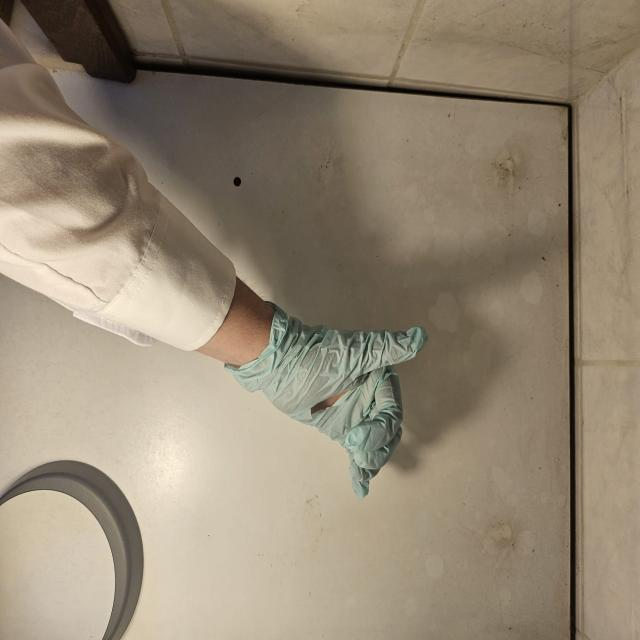gloves_damaged: (239, 297, 425, 498)
